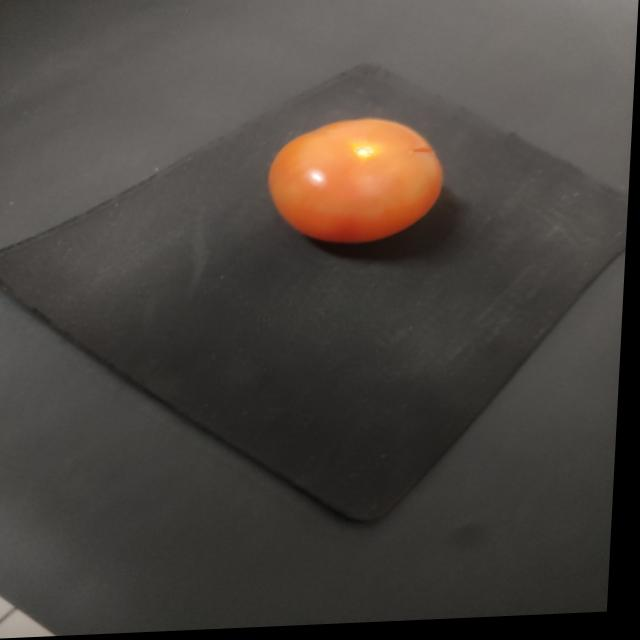sari: (260, 111, 459, 253)
